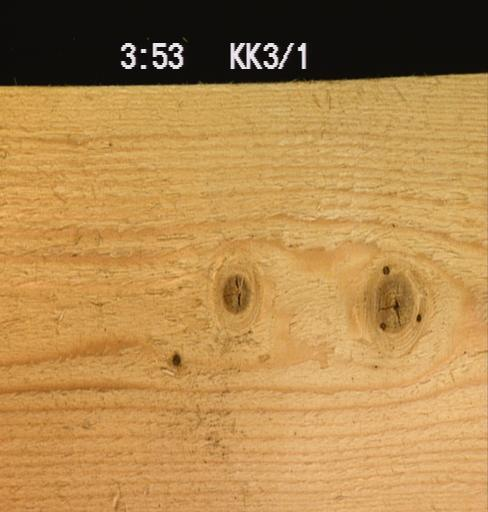dry_knot: (169, 349, 183, 368)
sound_knot: (370, 261, 421, 333), (219, 270, 251, 315)
